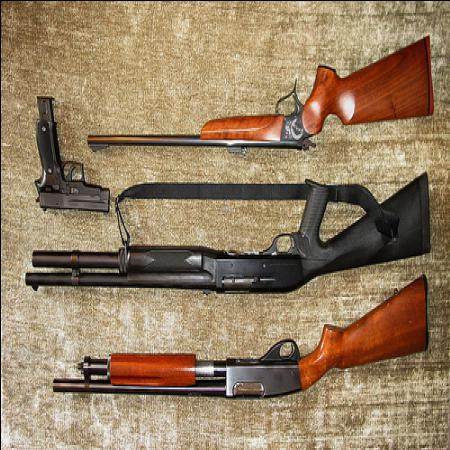Pistol: (34, 119, 110, 216)
